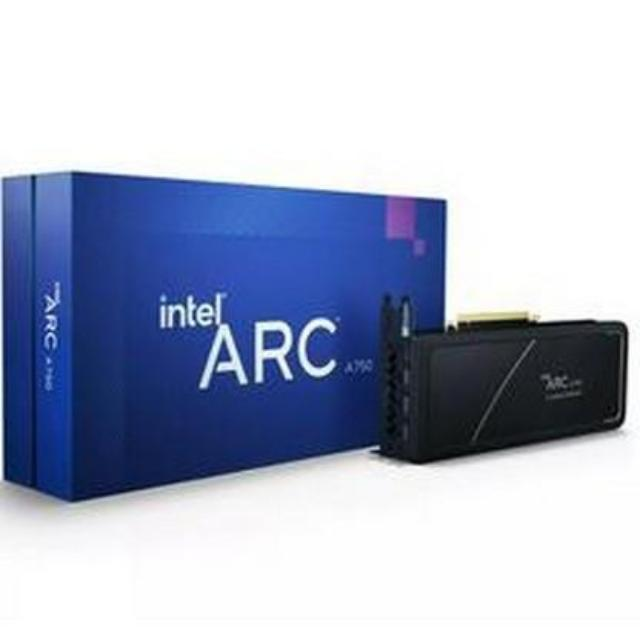GPU: (374, 306, 640, 458)
